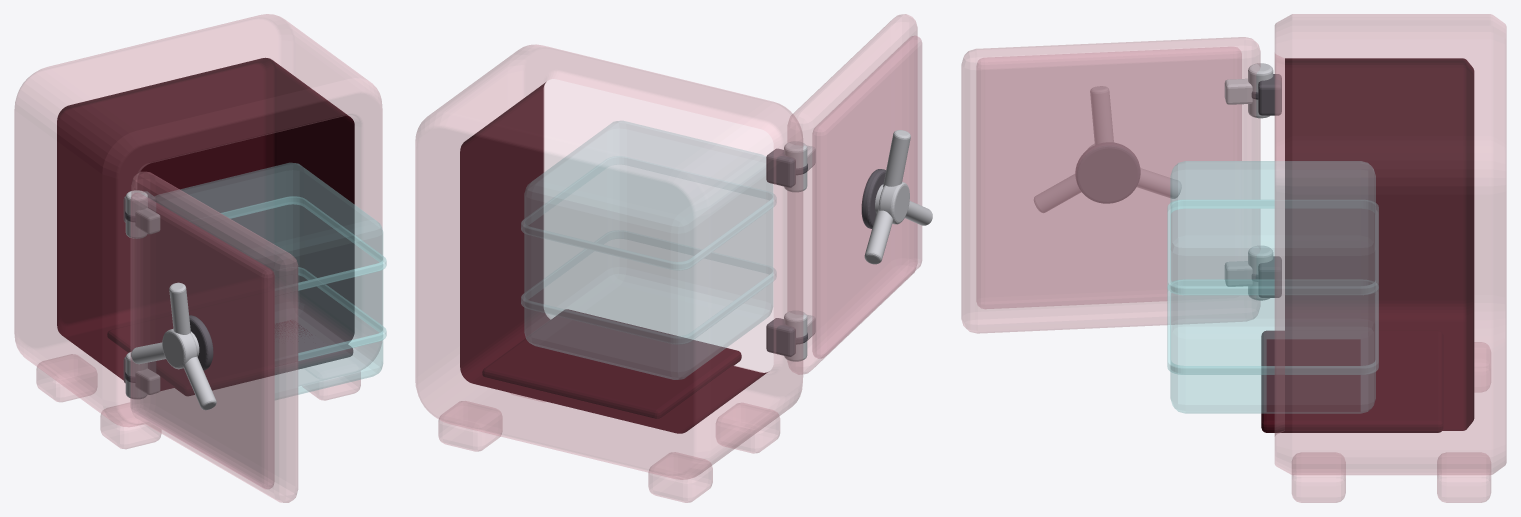
The model's file is secretsmanager.glb.
The picture shows the model from 3 angles, left to right: view 1: azimuth 30°, elevation 25°; view 2: azimuth 150°, elevation 25°; view 3: azimuth 270°, elevation 25°; orthographic projection. The views are drawn at different scales.
Visible parts, largest first — view 1: Ruby vault housing, Open ruby door, Raised door panel, Secret cartridge, Interior slide, Ruby foot.001, Upper cartridge band, Ruby foot, Lower cartridge band, Wheel hub, Ruby foot.002, Wheel spoke 3 (+7 smaller); view 2: Ruby vault housing, Secret cartridge, Open ruby door, Raised door panel, Interior slide, Ruby foot.001, Ruby foot.003, Ruby foot, Upper cartridge band, Lower cartridge band, Wheel spoke 1, Fixed hinge leaf.001 (+6 smaller); view 3: Ruby vault housing, Open ruby door, Raised door panel, Secret cartridge, Interior slide, Upper cartridge band, Wheel base, Lower cartridge band, Ruby foot.002, Ruby foot.003, Wheel spoke 1, Fixed hinge leaf.001 (+8 smaller).
Boxes of the visible parts, x1,y1,x2,y2 form: Ruby vault housing: (14, 14, 382, 426); Open ruby door: (131, 172, 297, 502); Raised door panel: (130, 193, 274, 488); Secret cartridge: (155, 163, 382, 399); Interior slide: (107, 291, 353, 395); Ruby foot.001: (36, 354, 97, 401); Upper cartridge band: (221, 196, 386, 295); Ruby foot: (100, 402, 161, 448); Lower cartridge band: (275, 267, 386, 366); Wheel hub: (162, 329, 196, 369); Ruby foot.002: (302, 371, 360, 400); Wheel spoke 3: (183, 356, 216, 410); Ruby vault housing: (415, 44, 802, 479); Secret cartridge: (524, 121, 772, 379); Open ruby door: (787, 14, 917, 374); Raised door panel: (812, 36, 921, 358); Interior slide: (482, 309, 741, 418); Ruby foot.001: (648, 452, 712, 502); Ruby foot.003: (438, 401, 502, 451); Ruby foot: (716, 403, 779, 453); Upper cartridge band: (521, 165, 776, 270); Lower cartridge band: (521, 238, 776, 344); Wheel spoke 1: (883, 130, 910, 187); Fixed hinge leaf.001: (766, 148, 795, 187); Ruby vault housing: (1274, 14, 1506, 474); Open ruby door: (961, 37, 1260, 333); Raised door panel: (976, 47, 1241, 308); Secret cartridge: (1170, 161, 1375, 413); Interior slide: (1261, 330, 1443, 432); Upper cartridge band: (1167, 200, 1378, 294); Wheel base: (1075, 142, 1140, 203); Lower cartridge band: (1167, 279, 1378, 374); Ruby foot.002: (1292, 452, 1345, 502); Ruby foot.003: (1437, 452, 1490, 502); Wheel spoke 1: (1090, 86, 1113, 144); Fixed hinge leaf.001: (1258, 74, 1281, 115).
Bounding box in the file's own units: 2.7 × 2.72 × 3.71.
